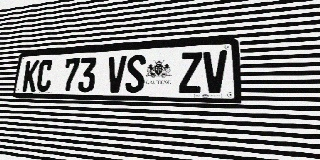3: (77, 57, 97, 92)
7: (61, 58, 80, 92)
C: (36, 59, 54, 92)
K: (22, 60, 39, 92)
S: (125, 55, 146, 93)
V: (203, 50, 228, 93), (106, 56, 127, 93)
Z: (179, 52, 202, 93)
